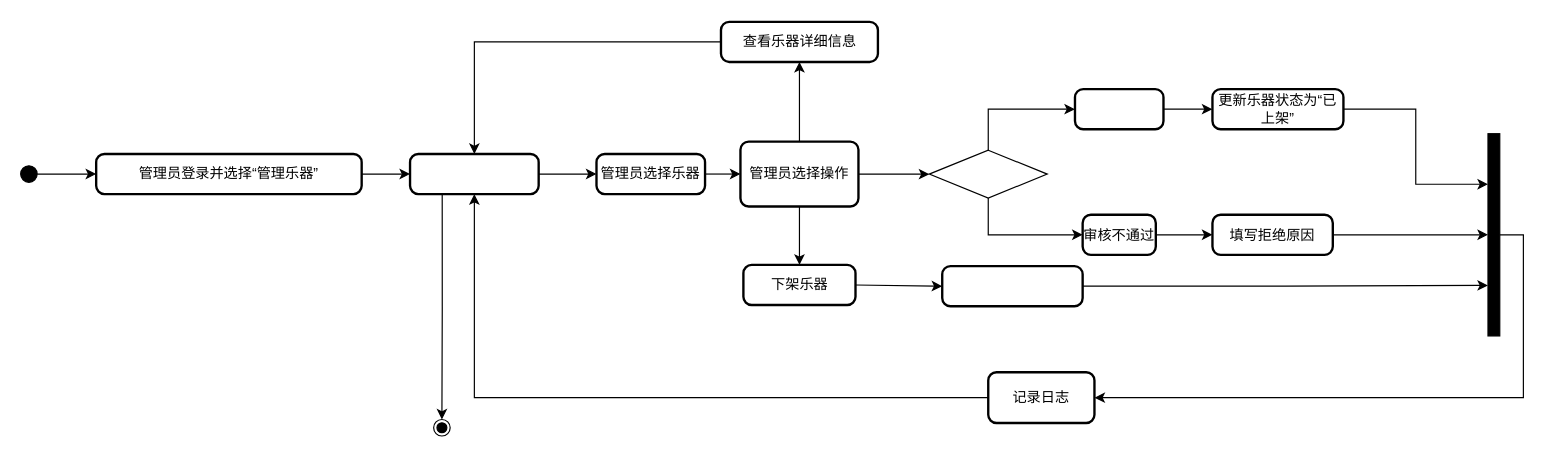
This 1554x457 diagram has some shape labels left out. Each missing label, with the centre of its shape:
"审核乐器上架" goes at [987,173].
"审核通过" goes at [1118,108].
"更新乐器状态为“不可用”" goes at [1011,285].
"系统展示乐器列表" goes at [473,173].
